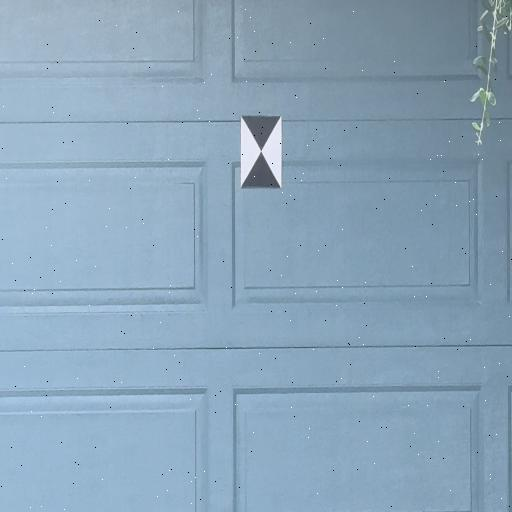target: (240, 115, 282, 188)
